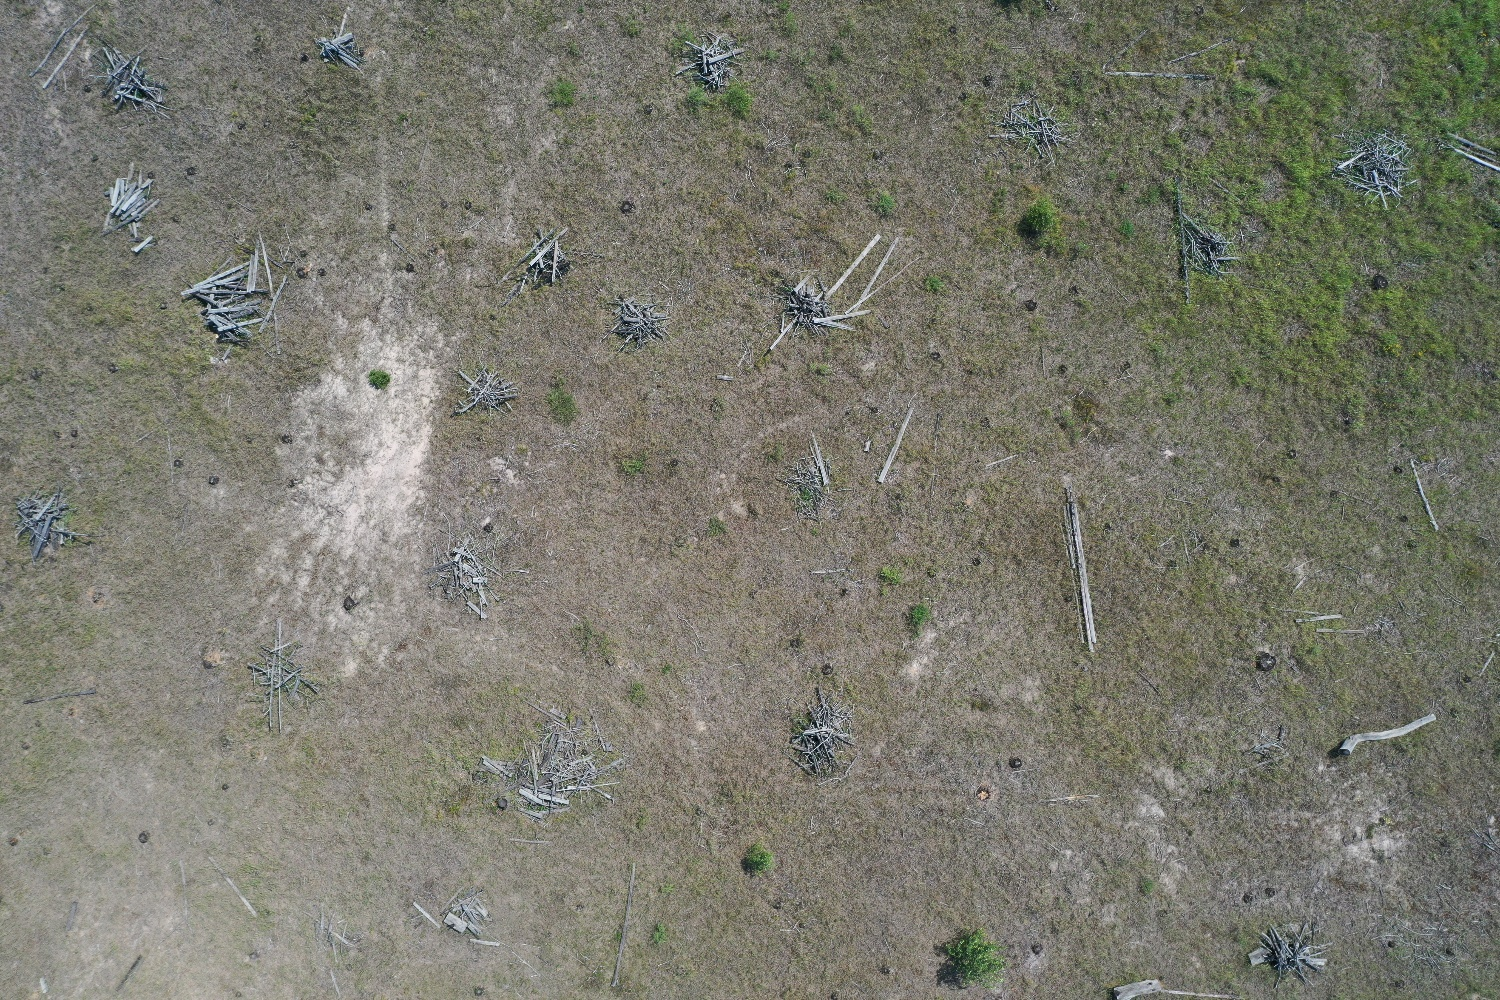branches: (180, 234, 289, 359), (518, 708, 607, 816), (1329, 125, 1421, 210), (787, 684, 856, 785), (1248, 923, 1334, 990), (987, 98, 1073, 164), (427, 547, 502, 621), (92, 47, 170, 113), (501, 227, 573, 289), (675, 32, 747, 94), (13, 485, 69, 561), (247, 644, 318, 703), (600, 295, 671, 352), (1181, 214, 1240, 275), (440, 890, 501, 948), (779, 276, 831, 343), (454, 369, 518, 422), (104, 177, 160, 237), (316, 33, 365, 75)
